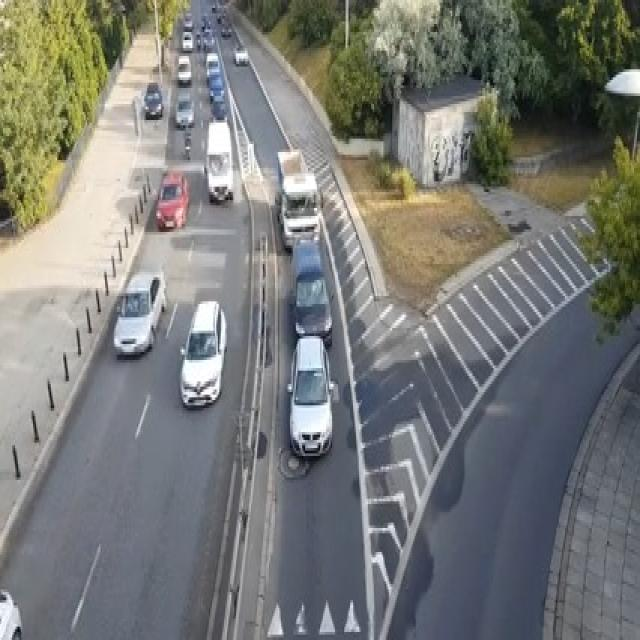car: (286, 333, 334, 459), (179, 299, 227, 408), (288, 235, 332, 344), (112, 270, 166, 358), (279, 171, 320, 248), (155, 171, 189, 229), (0, 587, 23, 637), (174, 91, 194, 128), (143, 80, 162, 117), (177, 54, 191, 86), (209, 72, 224, 101), (206, 51, 219, 80), (233, 43, 248, 64), (203, 29, 215, 48), (182, 29, 192, 51), (182, 11, 192, 29), (221, 22, 231, 38)
truck: (204, 117, 233, 203)
